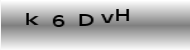6: (50, 13, 65, 28)
D: (76, 12, 93, 28)
H: (114, 8, 129, 22)
k: (24, 12, 38, 27)
v: (99, 12, 114, 25)
